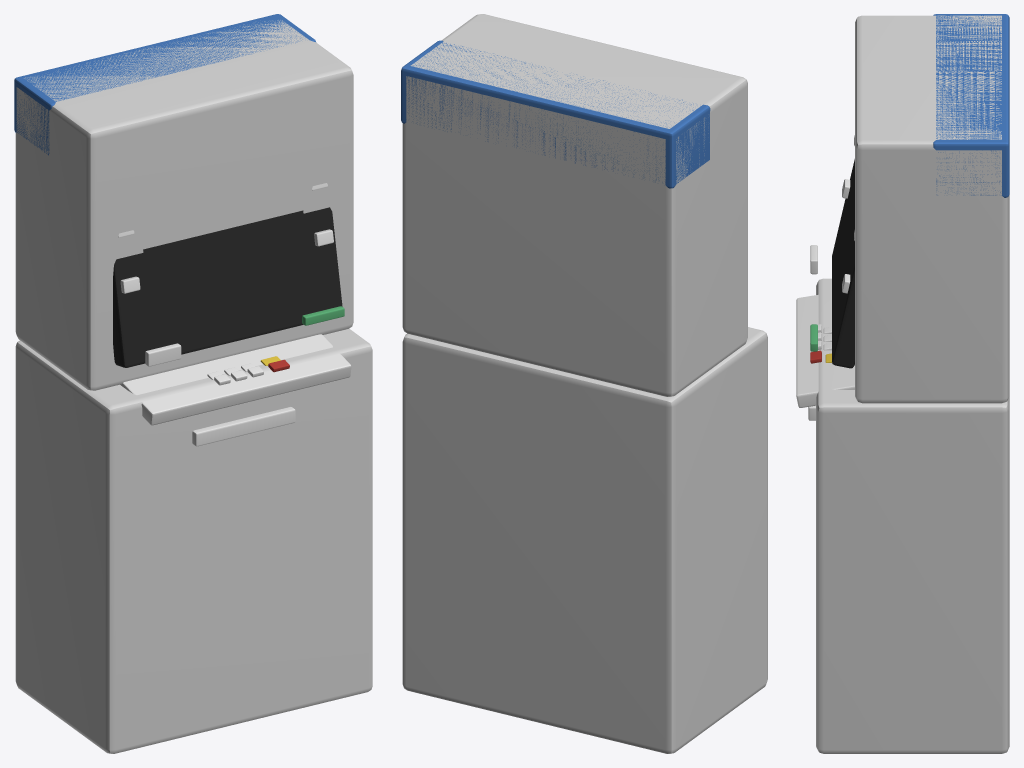
Rendered from SM_ATM.fbx.
3 views of the same model, side by side, from view 1: azimuth 30°, elevation 25°; view 2: azimuth 150°, elevation 25°; view 3: azimuth 270°, elevation 25° (orthographic). The views are drawn at different scales.
Visible parts, largest first — view 1: SM_ATM_1; view 2: SM_ATM_1; view 3: SM_ATM_1.
Boxes of the visible parts, x1,y1,x2,y2 form: SM_ATM_1: [14, 14, 372, 753]; SM_ATM_1: [401, 14, 767, 753]; SM_ATM_1: [796, 14, 1009, 753].
Size of the model in its own units: 80 by 175 by 55.11.
